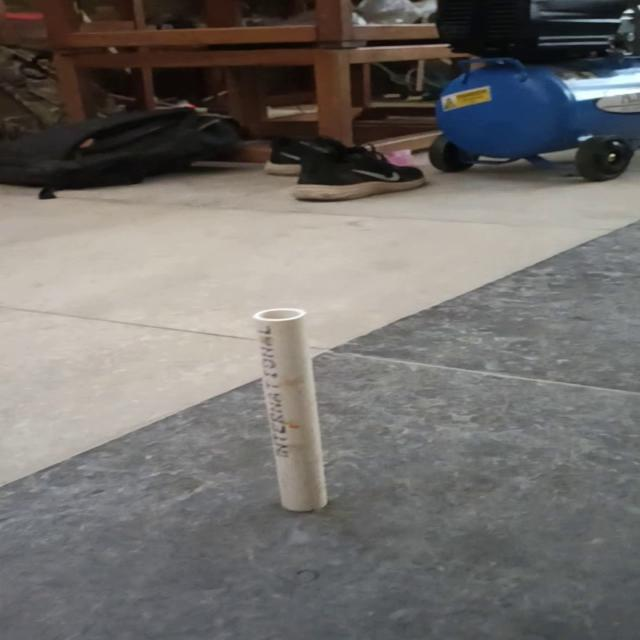Cube: (250, 306, 330, 512)
